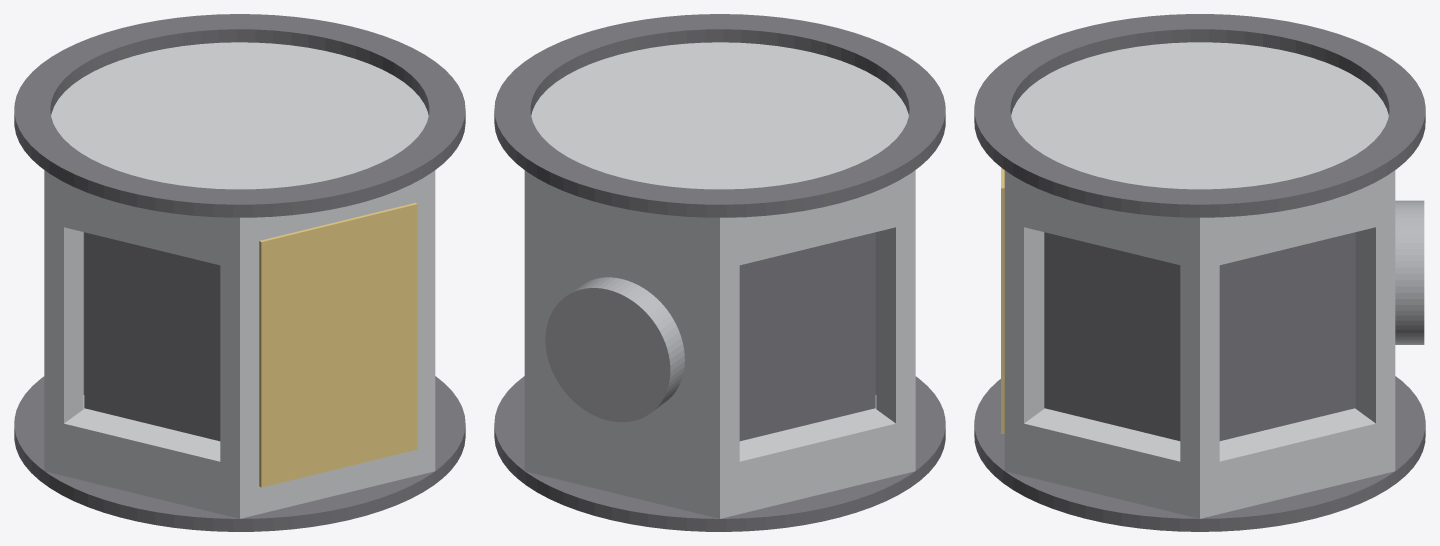
Rendered from cmd01_probe_bus.glb.
3 renders of one model, left to right at view 1: azimuth 30°, elevation 25°; view 2: azimuth 150°, elevation 25°; view 3: azimuth 270°, elevation 25°, orthographic.
Visible parts, largest first — view 1: bus_structure, stack_rings, mli_panel, slot_items; view 2: bus_structure, stack_rings, slot_items, reaction_wheel_housing; view 3: bus_structure, slot_items, stack_rings, reaction_wheel_housing, mli_panel.
Boxes of the visible parts, box(x1,y1,x2,y2) form: bus_structure: box(44, 42, 435, 518); stack_rings: box(14, 14, 465, 531); mli_panel: box(259, 202, 417, 487); slot_items: box(83, 232, 220, 441); bus_structure: box(524, 42, 915, 518); stack_rings: box(494, 14, 945, 531); slot_items: box(739, 232, 876, 441); reaction_wheel_housing: box(545, 277, 684, 422); bus_structure: box(1004, 42, 1395, 518); slot_items: box(1044, 232, 1355, 440); stack_rings: box(974, 14, 1425, 531); reaction_wheel_housing: box(1395, 200, 1424, 344); mli_panel: box(1001, 167, 1004, 433).
Size of the model in its own units: 1.25 by 1 by 1.25.
